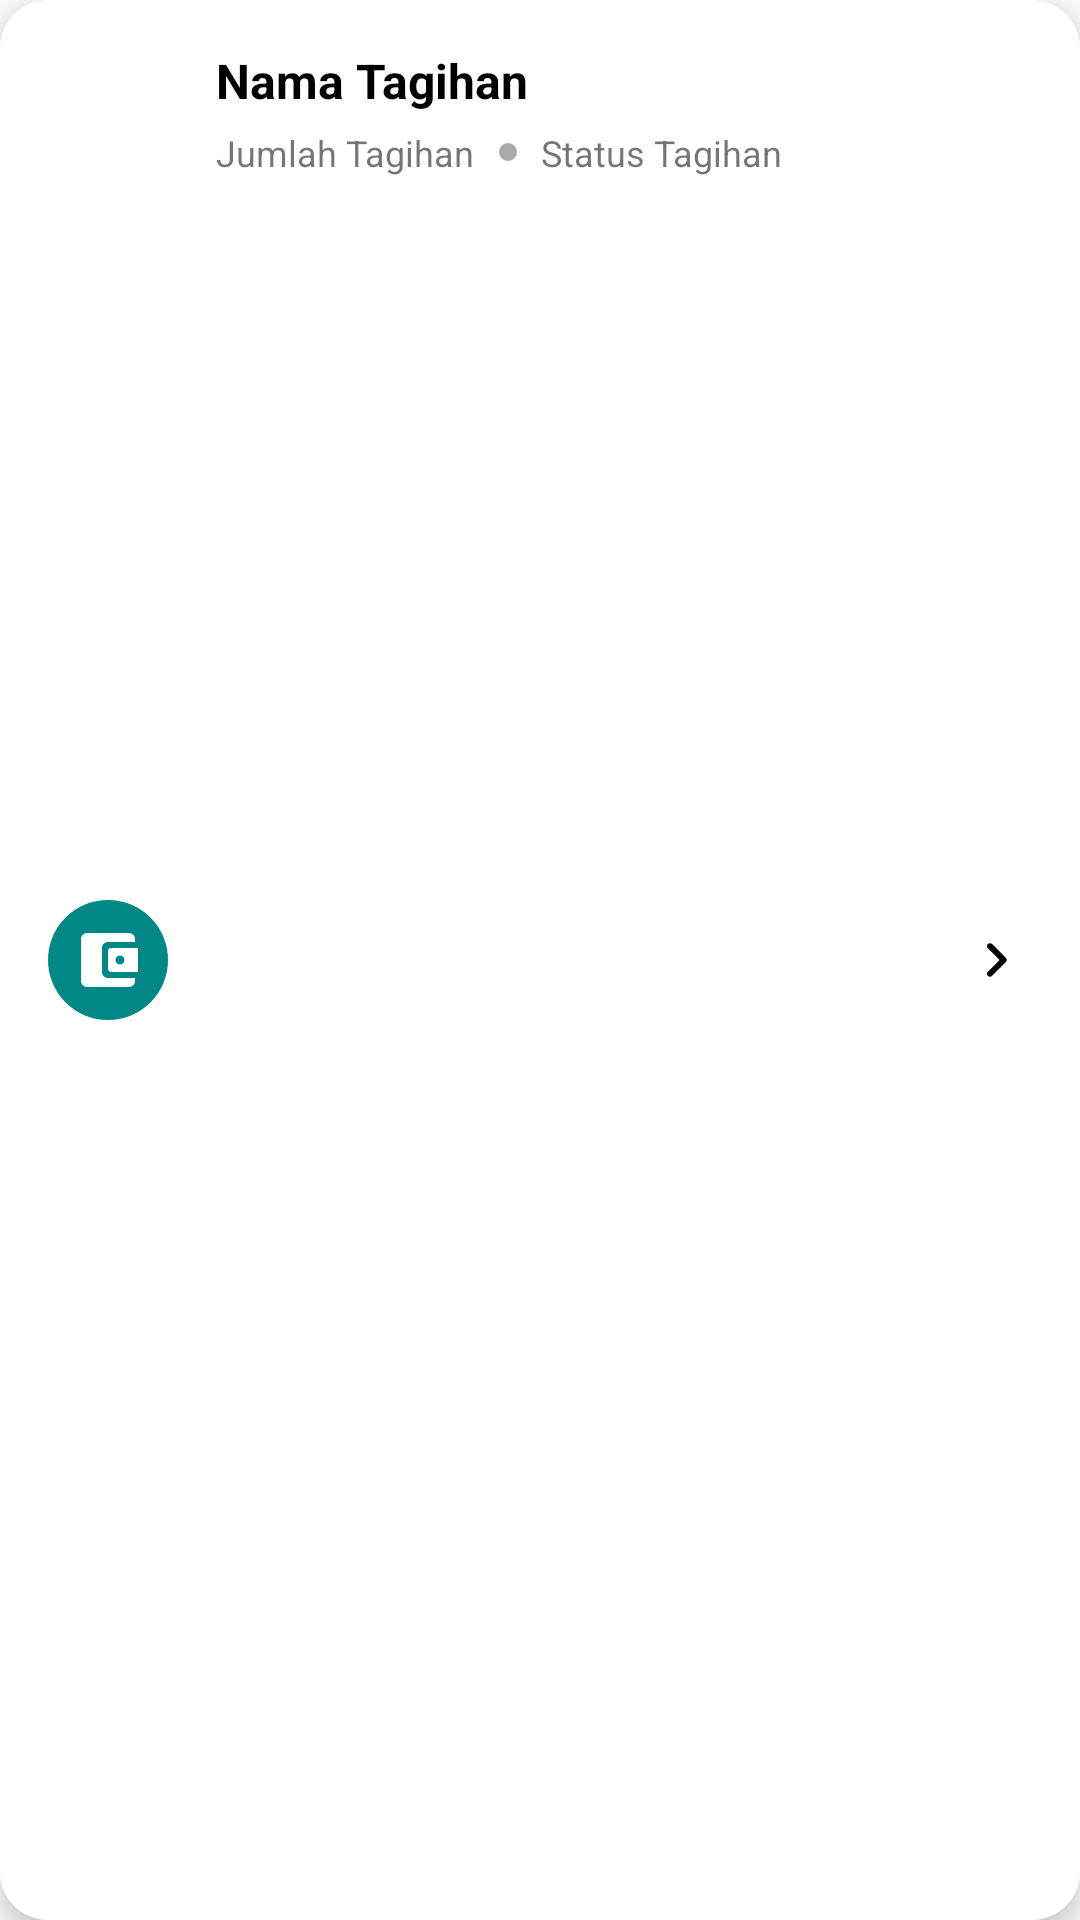

Named icons in this screenshot (1080 x 1920) and their bounding boxes, (x1, y1, x2, y2):
account balance wallet: (81, 933, 138, 987)
chevron right: (987, 943, 1007, 977)
